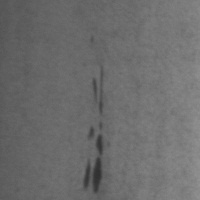inclusion: (87, 59, 109, 157), (80, 155, 106, 198)
